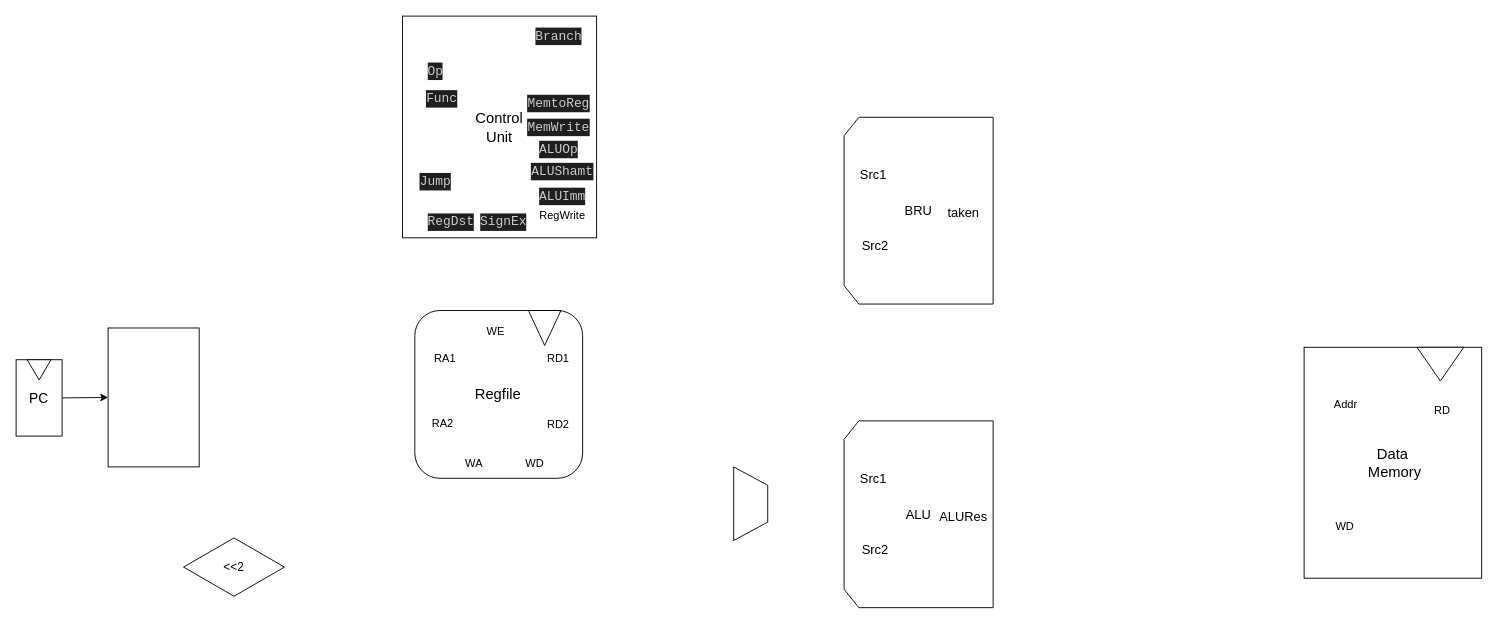
The diagram is 1498 pixels wide and 624 high, and some of its shapes have lost their labels. The centre of each missing label's shape, as x and y in pixels:
"Instruction Ram" belongs at (x=153, y=397).
"Mux" belongs at (x=750, y=503).
